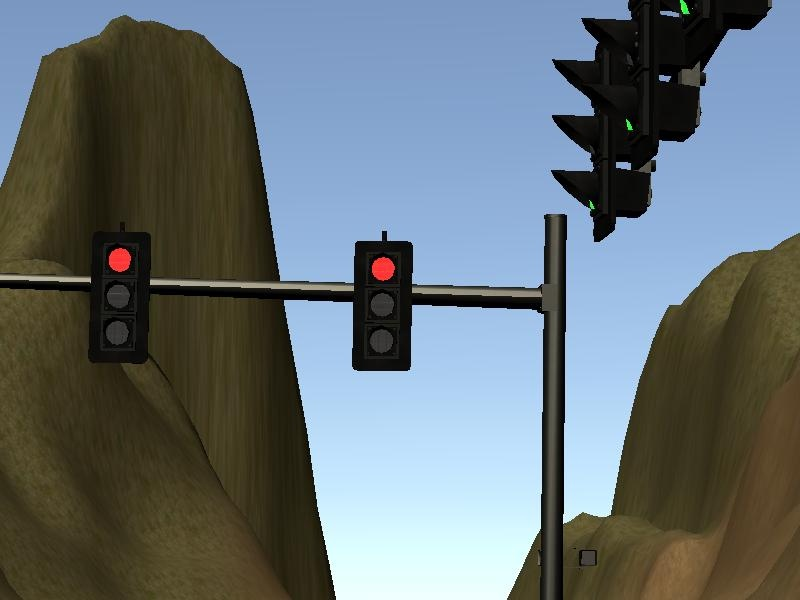red: (350, 242, 414, 372), (90, 233, 151, 365)
